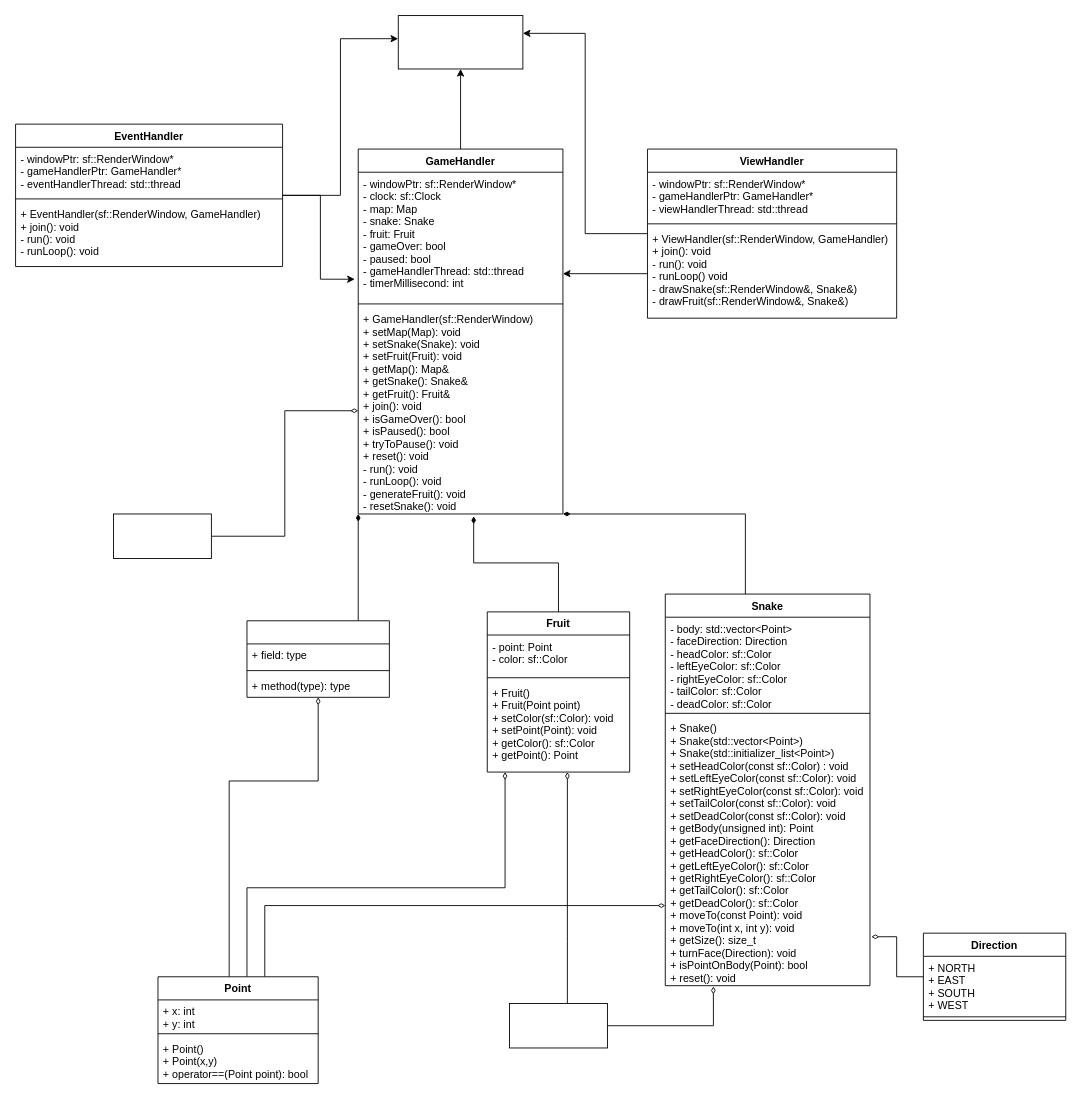
Some shapes in this 1081 by 1102 pixel diagram are drawn without their labels. The shapes that lost their labels are listed below. From the top down, each one's box as (x1, y1, x2, y2) in pixels, then its label:
(397, 15, 523, 69): sf::RenderWindow
(113, 513, 211, 558): sf::Clock
(246, 620, 389, 697): Map
(509, 1003, 607, 1048): sf::Color
